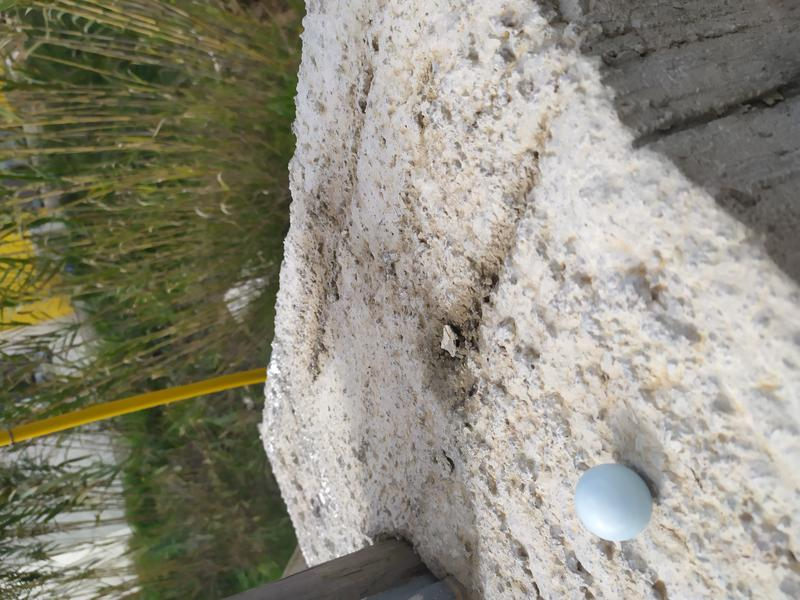Warning: (572, 460, 656, 543)
